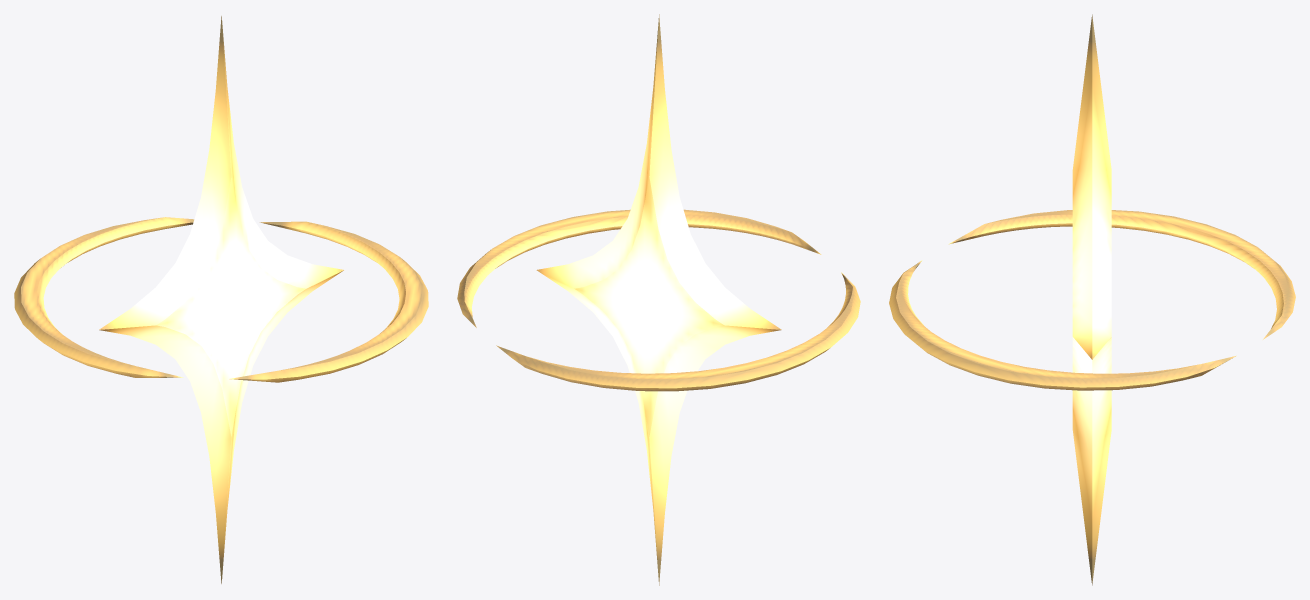
The model's file is Sigil16RIGGED.fbx.
3 renders of one model, left to right at view 1: azimuth 30°, elevation 25°; view 2: azimuth 150°, elevation 25°; view 3: azimuth 270°, elevation 25°, orthographic.
Parts seen in each view (by area): view 1: Sigil_16.002, Sigil_16.003; view 2: Sigil_16.002, Sigil_16.003; view 3: Sigil_16.002, Sigil_16.003.
Part boxes in pixels (left/top/right/bottom): Sigil_16.002: left=99, top=16, right=343, bottom=583; Sigil_16.003: left=14, top=217, right=428, bottom=382; Sigil_16.002: left=536, top=14, right=781, bottom=585; Sigil_16.003: left=457, top=209, right=860, bottom=391; Sigil_16.002: left=1072, top=14, right=1111, bottom=585; Sigil_16.003: left=889, top=210, right=1295, bottom=390.
Bounding box in the file's own units: 0.08 × 0.1228 × 0.0792.
